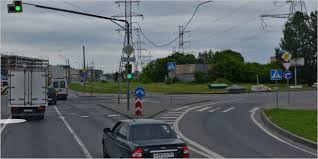signal: (6, 3, 24, 14), (124, 63, 134, 82)
